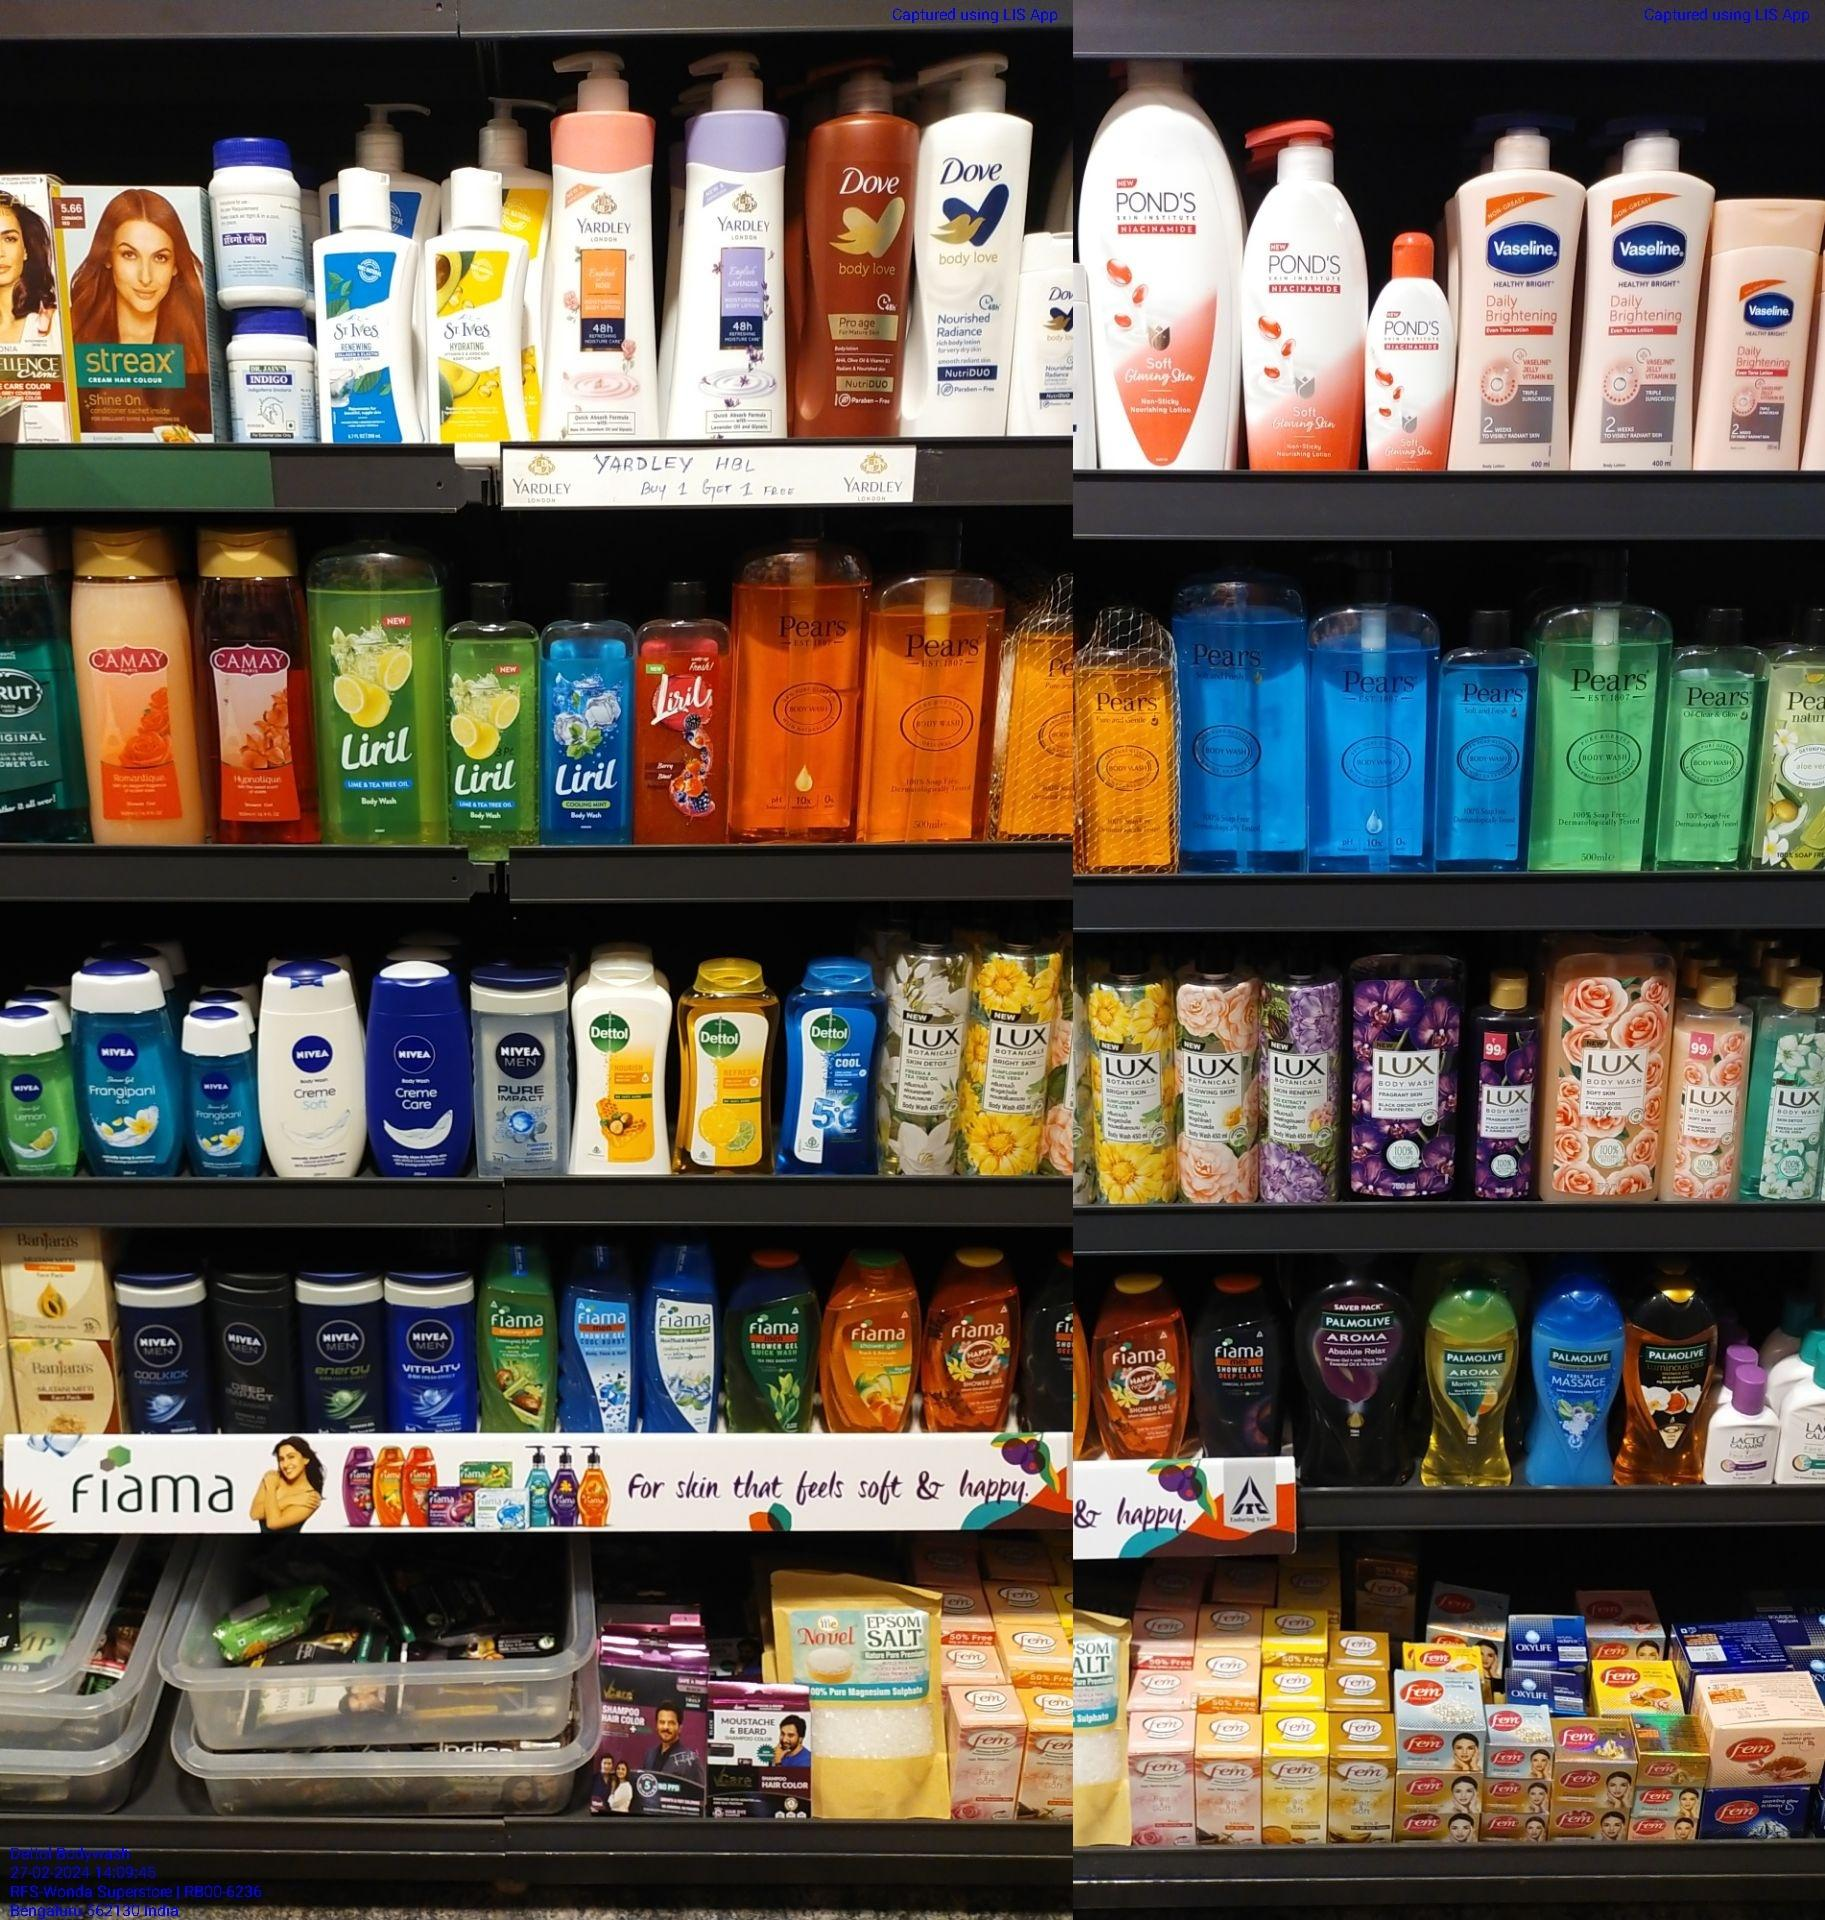Dettol_Bodywash_Cool: (788, 963, 876, 1179)
Dettol_Bodywash_Refresh: (675, 965, 769, 1179)
Dettol_Nourish_Body_Wash_250ML: (571, 962, 667, 1178)
Fiama_Shower_Gel_Lemongrass_and_Jojoba_250ML: (475, 1239, 559, 1431)
Fiama_Shower_Gel_Peach_and_Avocado_250ML: (819, 1245, 917, 1437)
Liril_Cooling_Mint_Body_Wash_250ML: (543, 569, 627, 842)
Liril_Lime_and_Tea_Tree_Oil_Body_Wash_250ML: (447, 585, 538, 859)
Lux_Black_Orchid_Scent_and_Juniper_Oil_Body_Wash_245ML: (1457, 969, 1541, 1202)
Lux_Body_Wash_Skin_Detox_Freesia_Scent_and_Alove_Vera_245ML: (1758, 967, 1825, 1209)
Nivea_Creme_Care_Body_Wash_250ML: (368, 963, 470, 1181)
Nivea_Creme_Soft_Body_Wash_250ML: (264, 970, 360, 1185)
Nivea_Shower_Gel_Frangipani_and_Oil_250ML: (77, 967, 170, 1171), (180, 1010, 259, 1186)
Nivea_Shower_Gel_Lemon_and_Oil_250ML: (0, 1008, 70, 1178)
Palmolive_Aroma_Moments_Feel_The_Massage_Shower_Gel_250ML: (1527, 1279, 1618, 1488)
Palmolive_Aroma_Morning_Tonic_Shower_Gel_250ML: (1427, 1286, 1518, 1485)
Palmolive_Luminous_Oils_With_White_Orchid_Shower_Gel_250ML: (1621, 1279, 1710, 1491)
Pears_Naturale_Aloe_Vera_Body_Wash_250ML: (1770, 610, 1825, 867)
Pears_Pure_Glycerin_and_Lemon_Flower_Extracts_Body_Wash_250ML: (1672, 605, 1763, 866)
Pears_Pure_Glycerin_and_Mint_Extracts_Body_Wash_250ML: (1443, 607, 1523, 874)
